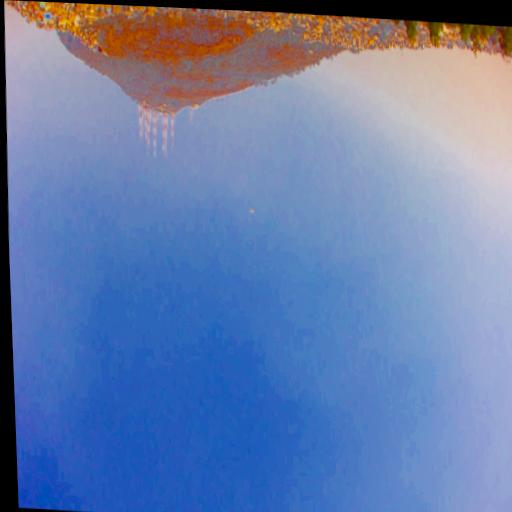drones: (247, 206, 256, 214)
